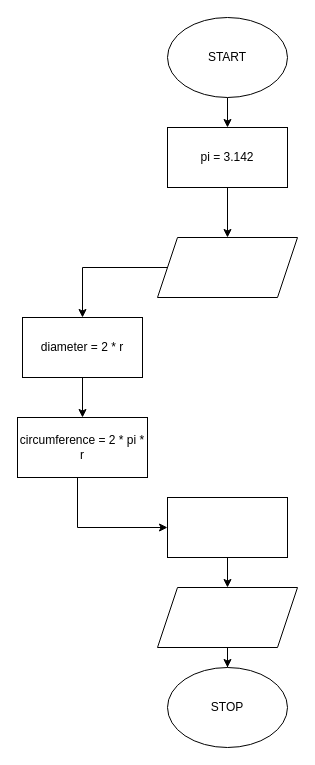
This 315x765 diagram has some shape labels left out. Here are the shapes that lost their labels. From the top down, the centre of each, then its label:
point (227, 267): read user input and assign to "r"
point (227, 527): area = pi * r * r
point (227, 617): print diameter, circumference, area of circle
